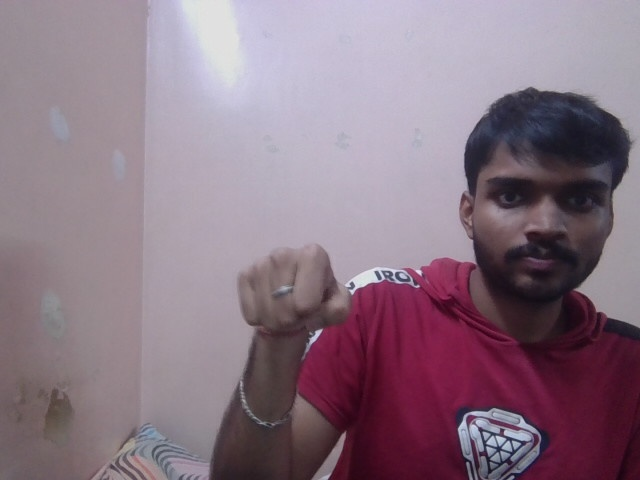Yes: (231, 242, 355, 333)
